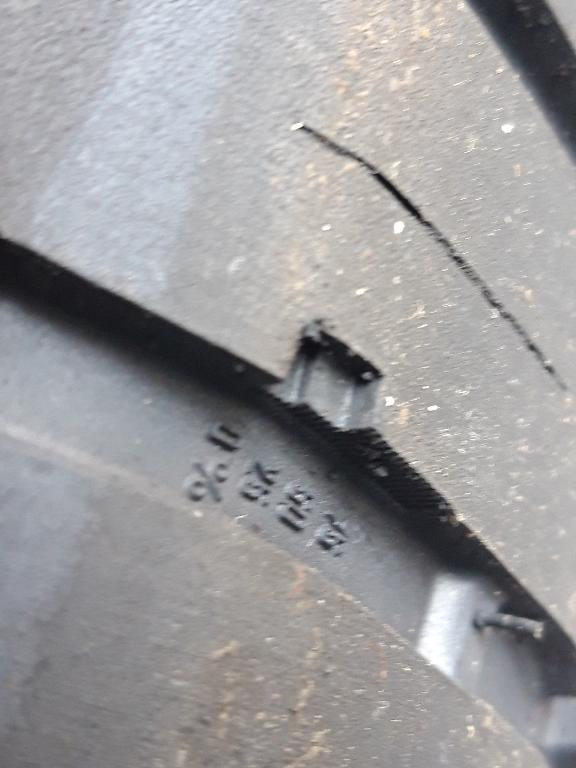temoin:50: (242, 316, 420, 483)
